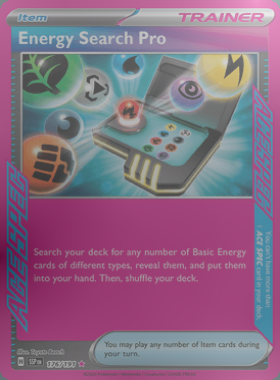Energy_Search_Pro: (0, 0, 280, 380)
